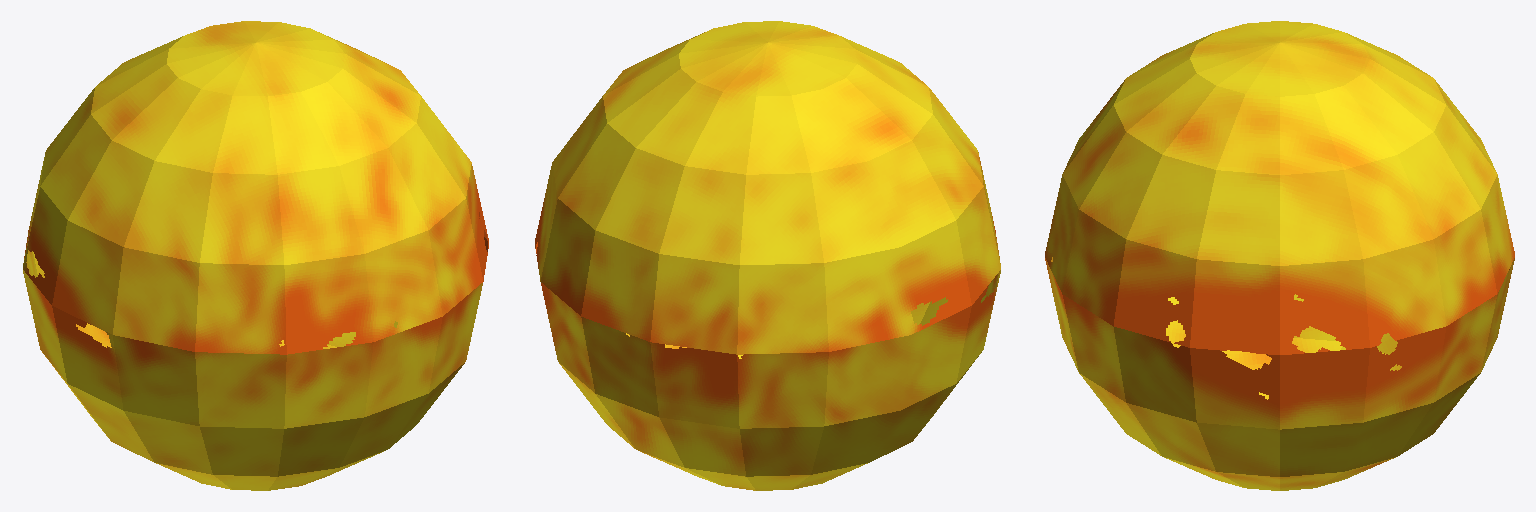
The picture shows the model from 3 angles: view 1: azimuth 30°, elevation 25°; view 2: azimuth 150°, elevation 25°; view 3: azimuth 270°, elevation 25°; orthographic projection.
Bounding box in the file's own units: 15.8 × 15.8 × 15.8.
1 materials, 1 textured.